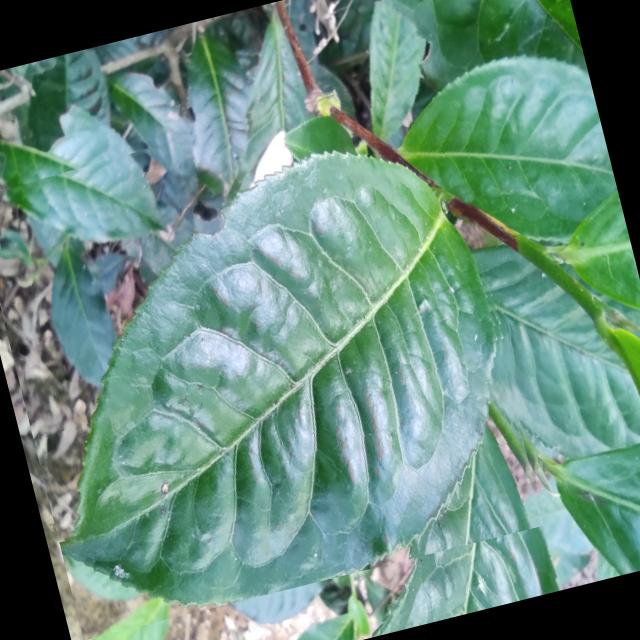Category D(7+ days, Not for Tea): (0, 64, 552, 640)
